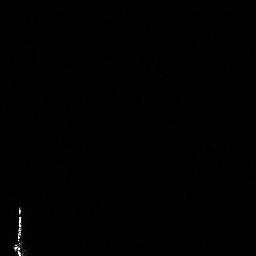ship: (10, 203, 31, 256)
